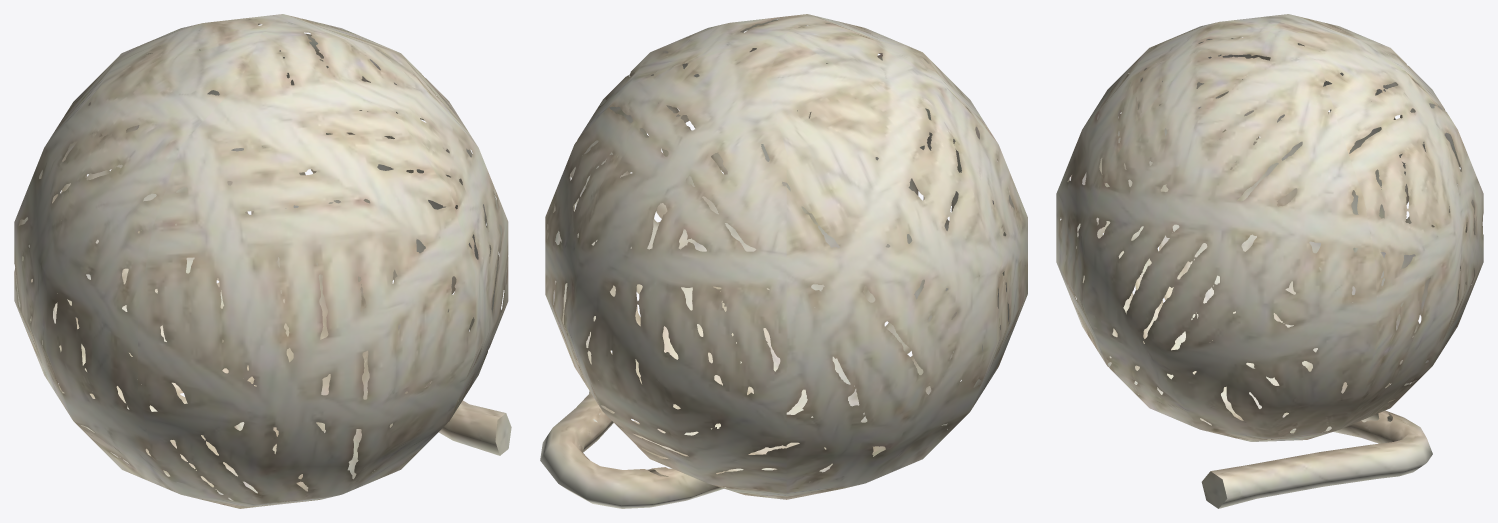
3 renders of one model, left to right at view 1: azimuth 30°, elevation 25°; view 2: azimuth 150°, elevation 25°; view 3: azimuth 270°, elevation 25°, orthographic. The views are drawn at different scales.
Visible parts, largest first — view 1: SM_Ball_of_Wool_01_LOD0; view 2: SM_Ball_of_Wool_01_LOD0; view 3: SM_Ball_of_Wool_01_LOD0.
Part boxes in pixels (bbox=[...]): SM_Ball_of_Wool_01_LOD0: bbox=[14, 14, 511, 508]; SM_Ball_of_Wool_01_LOD0: bbox=[540, 14, 1027, 508]; SM_Ball_of_Wool_01_LOD0: bbox=[1056, 14, 1483, 508].
Bounding box in the file's own units: 0.1995 × 0.1973 × 0.1943.
1 material, 1 textured.
